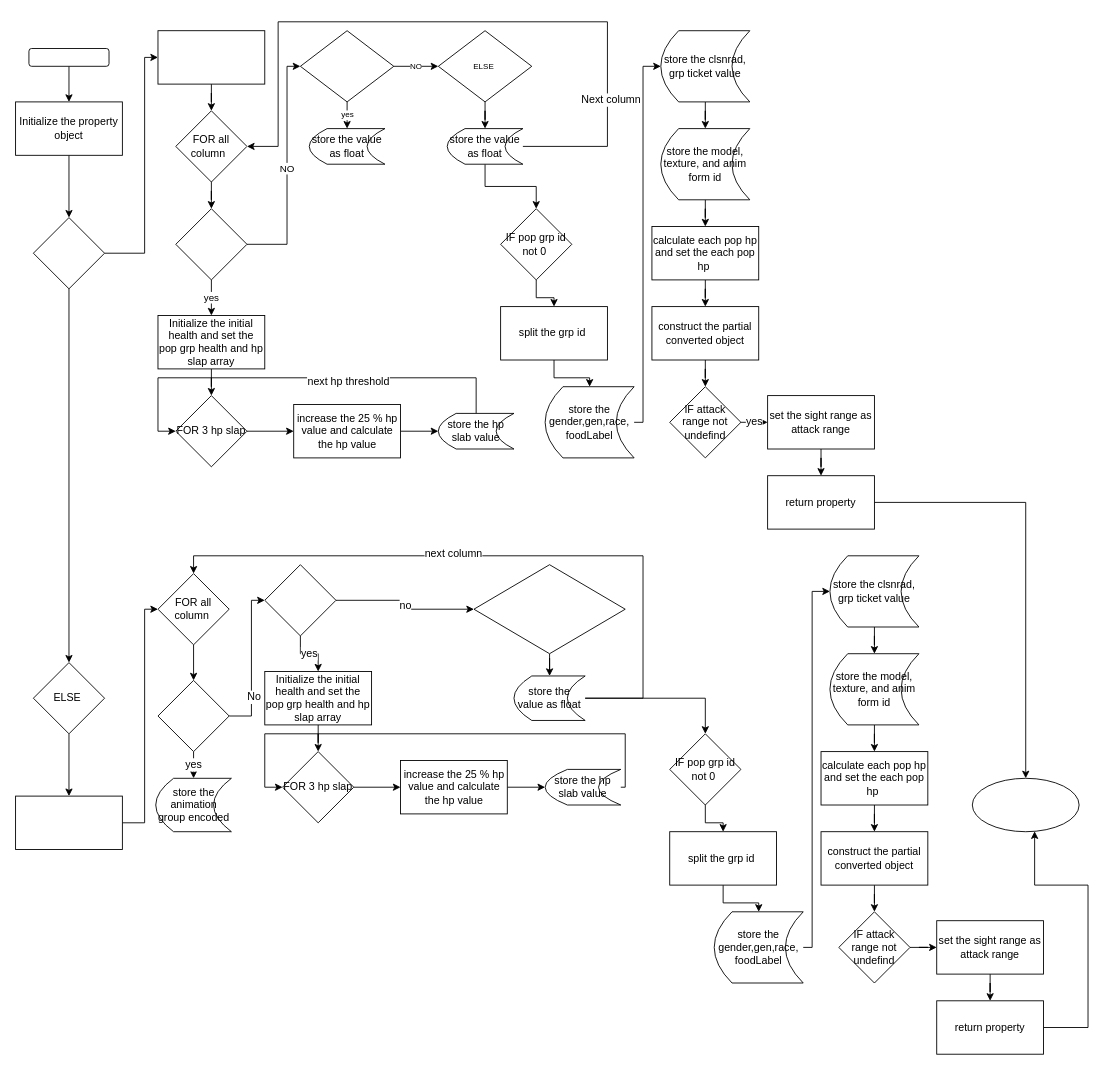
Some shapes in this 1111 by 1070 pixel diagram are drawn without their labels. The centre of each missing label's shape, as x and y in pixels:
"ELSE IF column health" belongs at pixel 300 600.
"ELSE IF column not ehtnicity id,model id,texture" belongs at pixel 346 66.
"ELSE IF column not grp id, gro ticket value, animation and texture" belongs at pixel 549 609.
"end" belongs at pixel 1025 804.
"get ethnic pop column ref data" belongs at pixel 211 57.
"Get the normal pop column field" belongs at pixel 68 822.
"IF column animation group" belongs at pixel 193 716.
"IF column is health" belongs at pixel 211 244.
"IF pop purpose the tourist" belongs at pixel 68 253.
"start" belongs at pixel 68 57.
